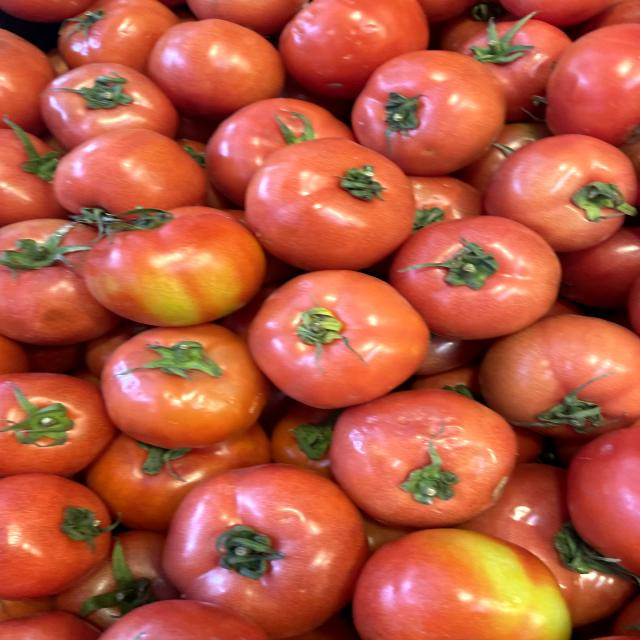tomato: (156, 459, 368, 634), (319, 383, 525, 528), (241, 262, 431, 400), (248, 132, 419, 272), (91, 314, 268, 444), (392, 206, 563, 336), (79, 201, 258, 322), (489, 120, 640, 252), (352, 47, 505, 167), (34, 60, 178, 148)
